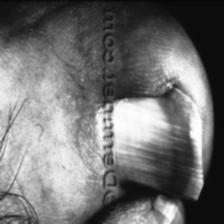Toxin: (120, 64, 212, 224), (65, 44, 96, 190), (154, 196, 192, 224)
